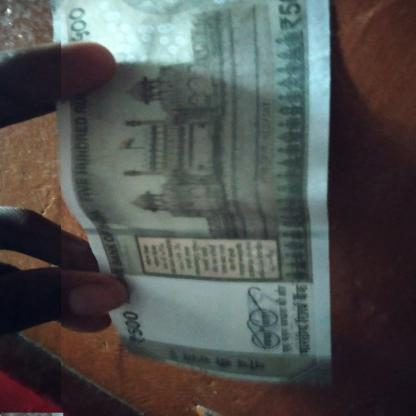New500Back: (52, 3, 331, 388)
